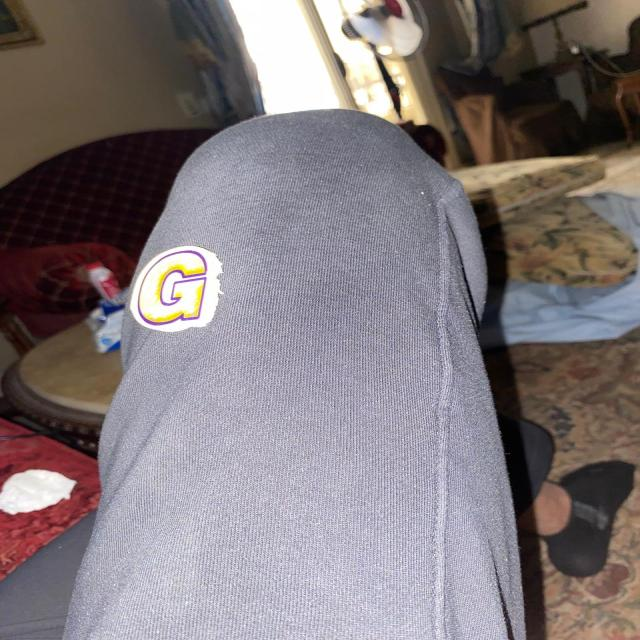G: (129, 246, 221, 332)
